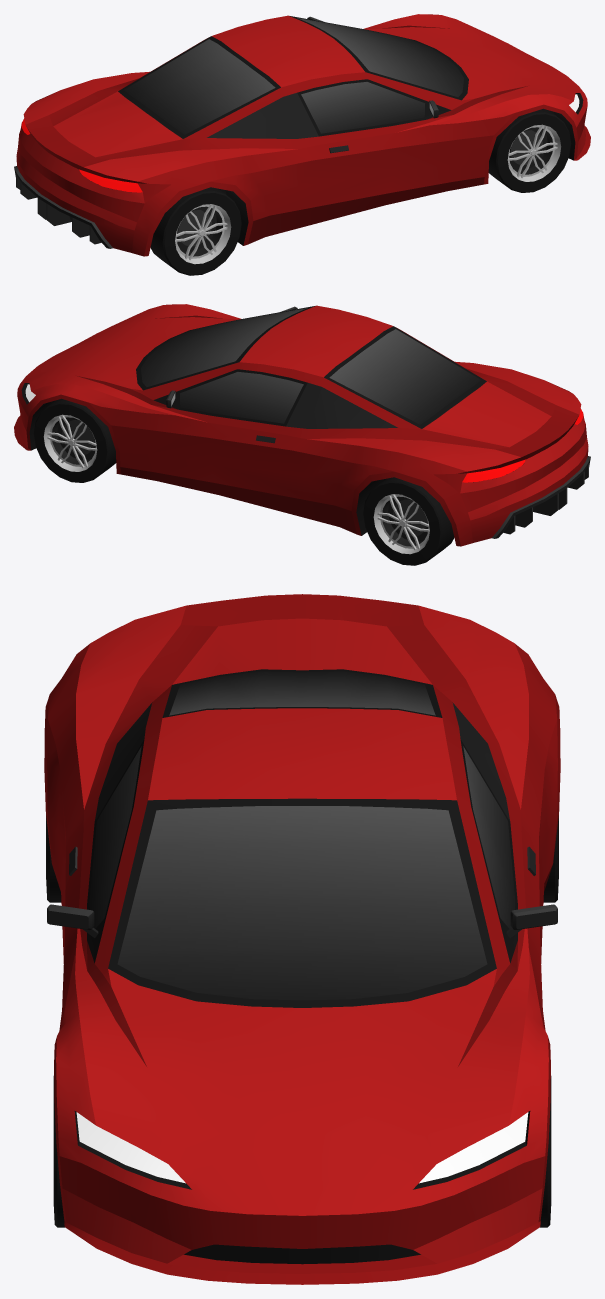
The model's file is Car_181.glb.
The picture shows the model from 3 angles, top to bottom: view 1: azimuth 30°, elevation 25°; view 2: azimuth 150°, elevation 25°; view 3: azimuth 270°, elevation 25°; orthographic projection. The views are drawn at different scales.
Parts seen in each view (by area): view 1: Car_181, wheel_3_Car_181_Wheel_2R, wheel_1_Car_181_Wheel_1R; view 2: Car_181, wheel_2_Car_181_Wheel_2L, wheel_0_Car_181_Wheel_1L; view 3: Car_181.
Part boxes in pixels (x1=…): Car_181: x1=14, y1=14, x2=590, y2=256; wheel_3_Car_181_Wheel_2R: x1=150, y1=187, x2=241, y2=275; wheel_1_Car_181_Wheel_1R: x1=488, y1=108, x2=571, y2=192; Car_181: x1=14, y1=304, x2=590, y2=546; wheel_2_Car_181_Wheel_2L: x1=363, y1=477, x2=454, y2=565; wheel_0_Car_181_Wheel_1L: x1=33, y1=398, x2=116, y2=482; Car_181: x1=44, y1=594, x2=560, y2=1284.
Bounding box in the file's own units: 4.7 × 1.25 × 1.99.
Materials: 3 (3 with a texture image).
